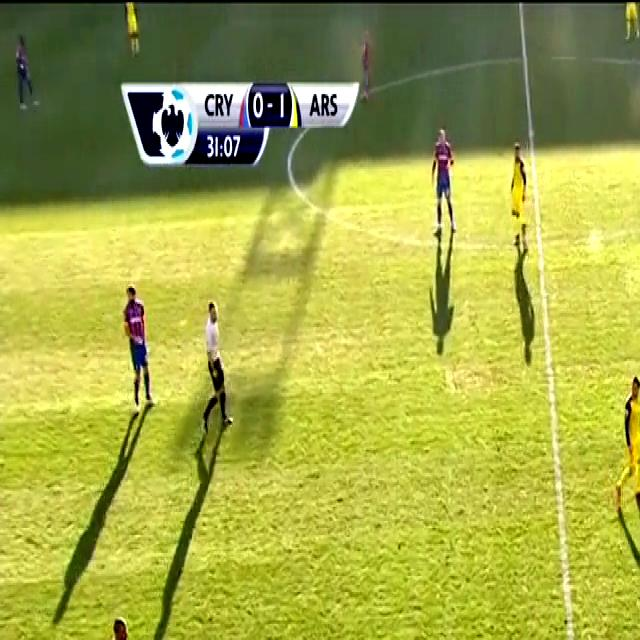referee: (195, 286, 231, 444)
soccer-player: (119, 282, 160, 414), (423, 118, 457, 266), (614, 372, 640, 518), (4, 32, 44, 118), (504, 149, 536, 252), (352, 28, 383, 105), (118, 0, 150, 57), (94, 615, 149, 640), (619, 0, 640, 44)
